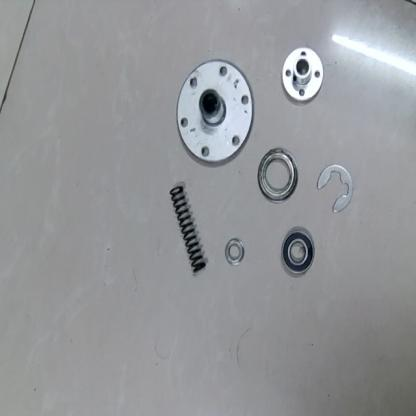FOD: (173, 59, 255, 171), (167, 182, 207, 275), (279, 46, 328, 104), (257, 146, 299, 202), (315, 163, 356, 216), (279, 226, 316, 280), (223, 236, 247, 265)
